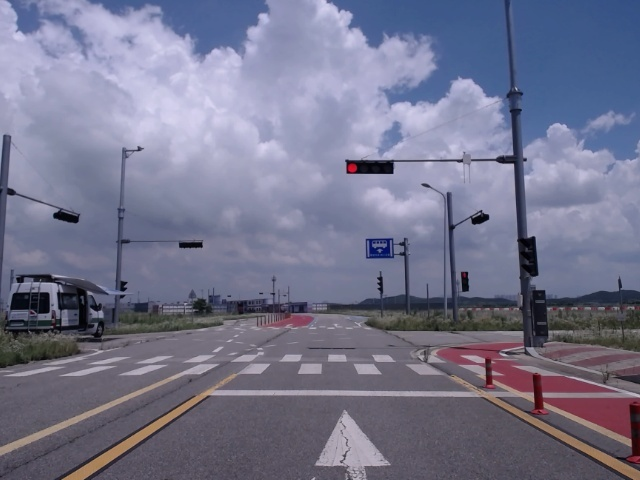red_4: (346, 162, 394, 174)
